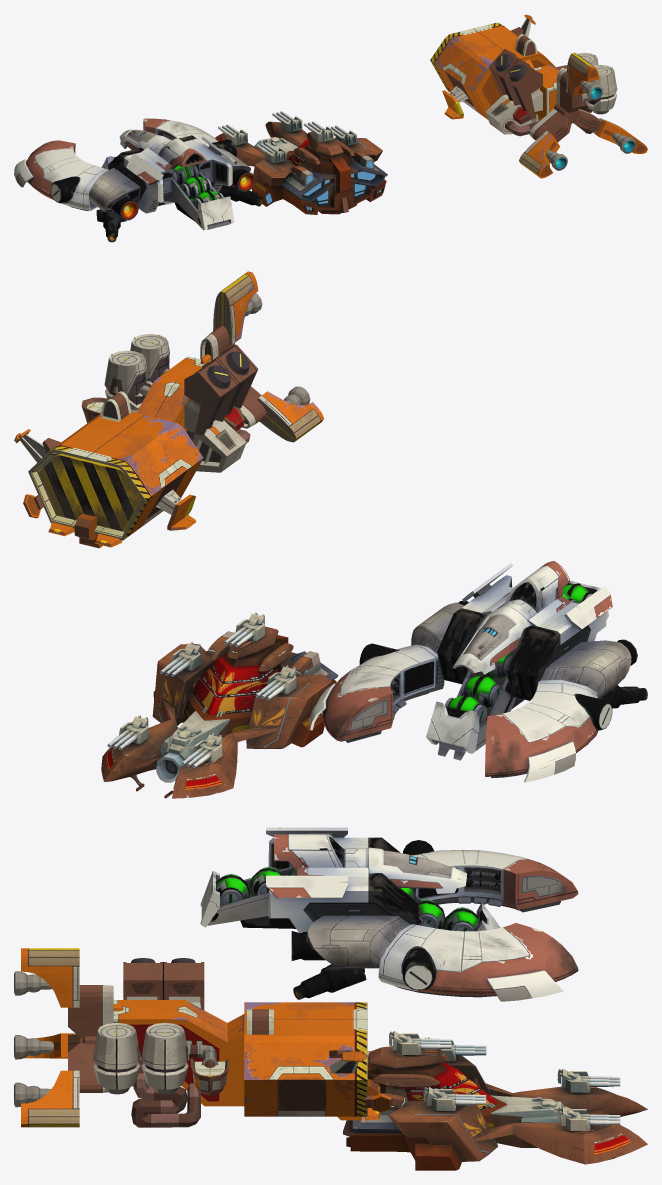
File: spaceships-scene.obj
The picture shows the model from 3 angles, top to bottom: view 1: azimuth 30°, elevation 25°; view 2: azimuth 150°, elevation 25°; view 3: azimuth 270°, elevation 25°; orthographic projection. The views are drawn at different scales.
Parts seen in each view (by area): view 1: drenkendship_DrenkendShip, menkmackspaceship_MenkMackSpaceShip, scryveship_ScryveShip; view 2: menkmackspaceship_MenkMackSpaceShip, drenkendship_DrenkendShip, scryveship_ScryveShip; view 3: drenkendship_DrenkendShip, menkmackspaceship_MenkMackSpaceShip, scryveship_ScryveShip.
Boxes of the visible parts, left/top/right/bottom form: drenkendship_DrenkendShip: left=430, top=14, right=647, bottom=178; menkmackspaceship_MenkMackSpaceShip: left=14, top=118, right=262, bottom=242; scryveship_ScryveShip: left=215, top=111, right=387, bottom=214; menkmackspaceship_MenkMackSpaceShip: left=309, top=561, right=647, bottom=782; drenkendship_DrenkendShip: left=14, top=271, right=323, bottom=548; scryveship_ScryveShip: left=101, top=612, right=338, bottom=798; drenkendship_DrenkendShip: left=14, top=948, right=391, bottom=1127; menkmackspaceship_MenkMackSpaceShip: left=200, top=827, right=578, bottom=1001; scryveship_ScryveShip: left=343, top=1031, right=647, bottom=1170.
Size of the model in its own units: 14.52 by 6.01 by 11.95.
